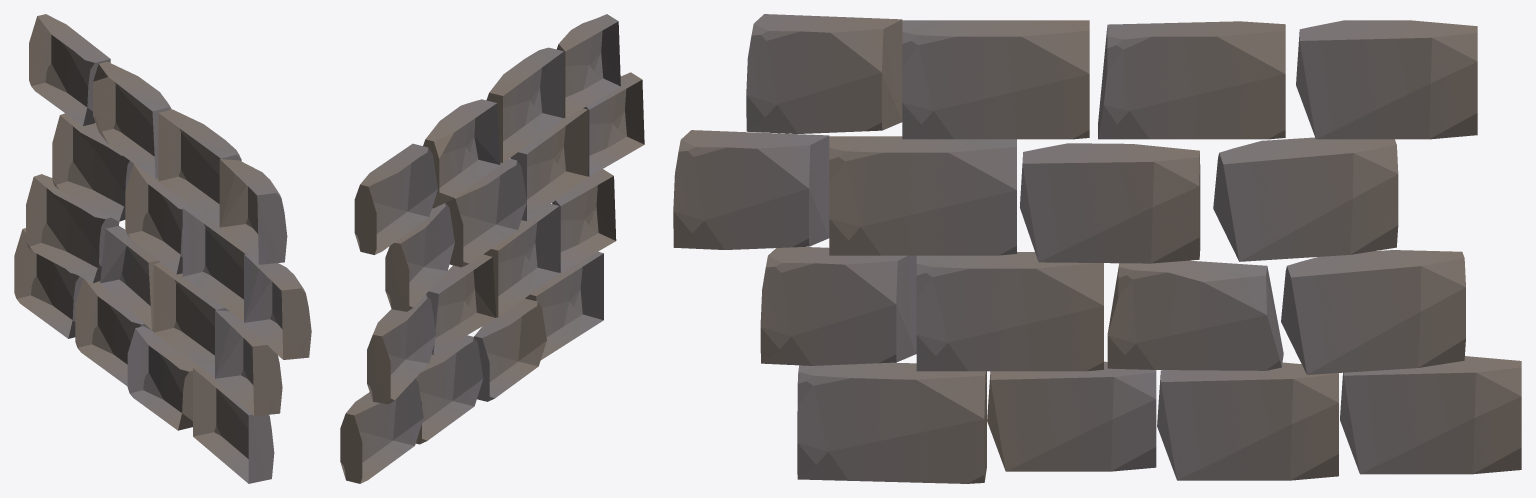
Rendered from kiln_Wall.fbx.
3 views of the same model, side by side, from view 1: azimuth 30°, elevation 25°; view 2: azimuth 150°, elevation 25°; view 3: azimuth 270°, elevation 25° (orthographic). The views are drawn at different scales.
Parts seen in each view (by area): view 1: 立方体.001; view 2: 立方体.001; view 3: 立方体.001.
Boxes of the visible parts, bbox=[...] form: 立方体.001: bbox=[14, 14, 311, 483]; 立方体.001: bbox=[340, 14, 644, 483]; 立方体.001: bbox=[673, 14, 1521, 483].
Bounding box in the file's own units: 30.36 × 201 × 345.
